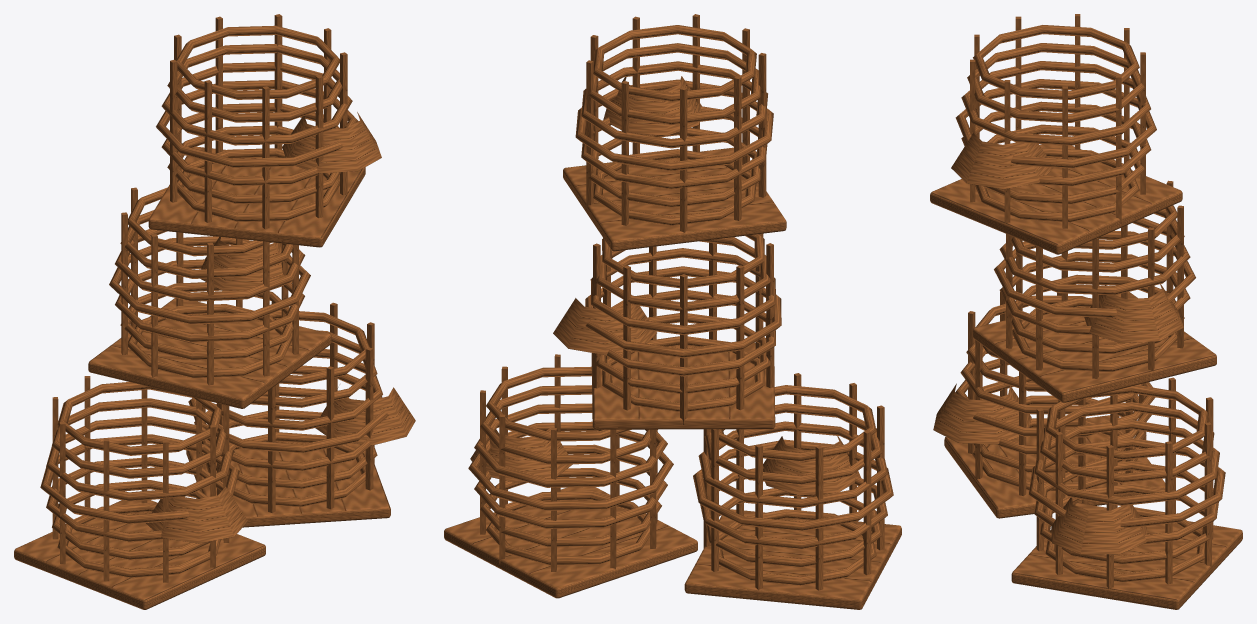
File: greek-island-village-and-harbour-creel-stack-c4825a1f__37109.glb
The picture shows the model from 3 angles, left to right: view 1: azimuth 30°, elevation 25°; view 2: azimuth 150°, elevation 25°; view 3: azimuth 270°, elevation 25°; orthographic projection.
Visible parts, largest first — view 1: creel-stack; view 2: creel-stack; view 3: creel-stack.
Boxes of the visible parts, x1,y1,x2,y2 form: creel-stack: (14,14,415,609); creel-stack: (444,14,901,609); creel-stack: (930,14,1242,609).
Size of the model in its own units: 1.38 by 1.64 by 0.9707.
1 material, 1 textured.
